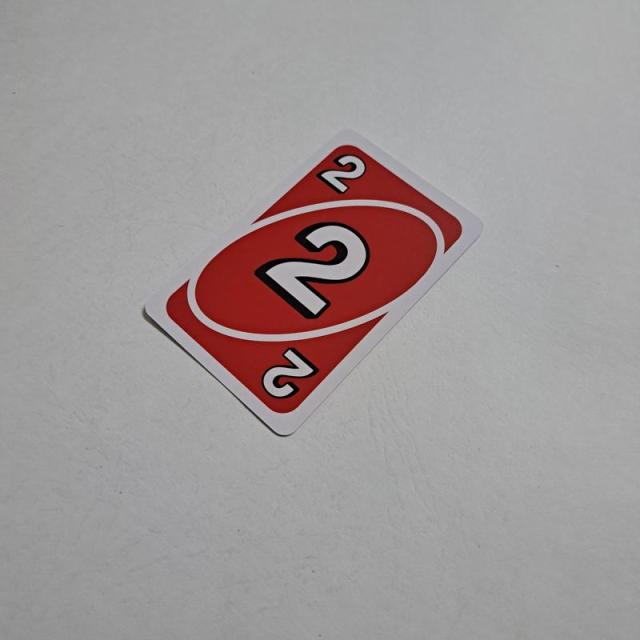Number_2: (319, 147, 371, 198)
Red_Card: (162, 138, 468, 416)
